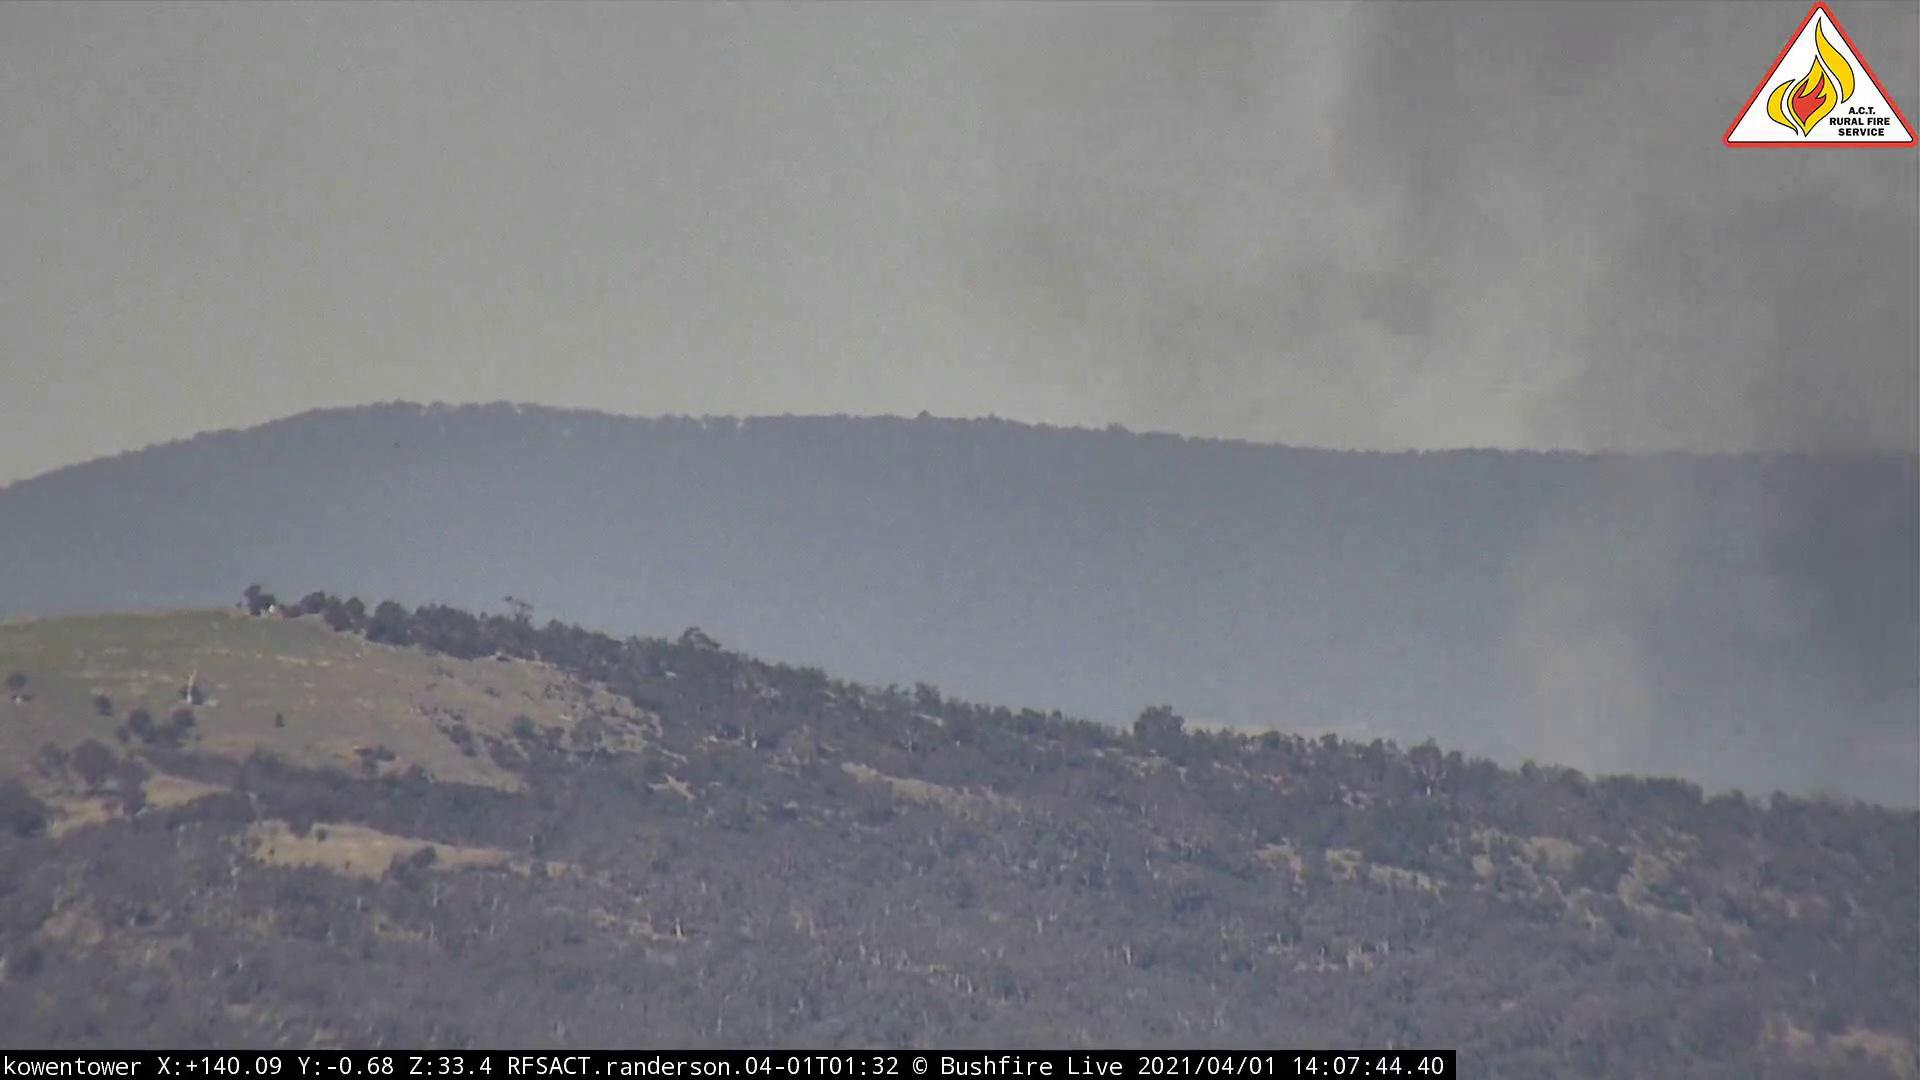Smoke: (928, 158, 1920, 878)
